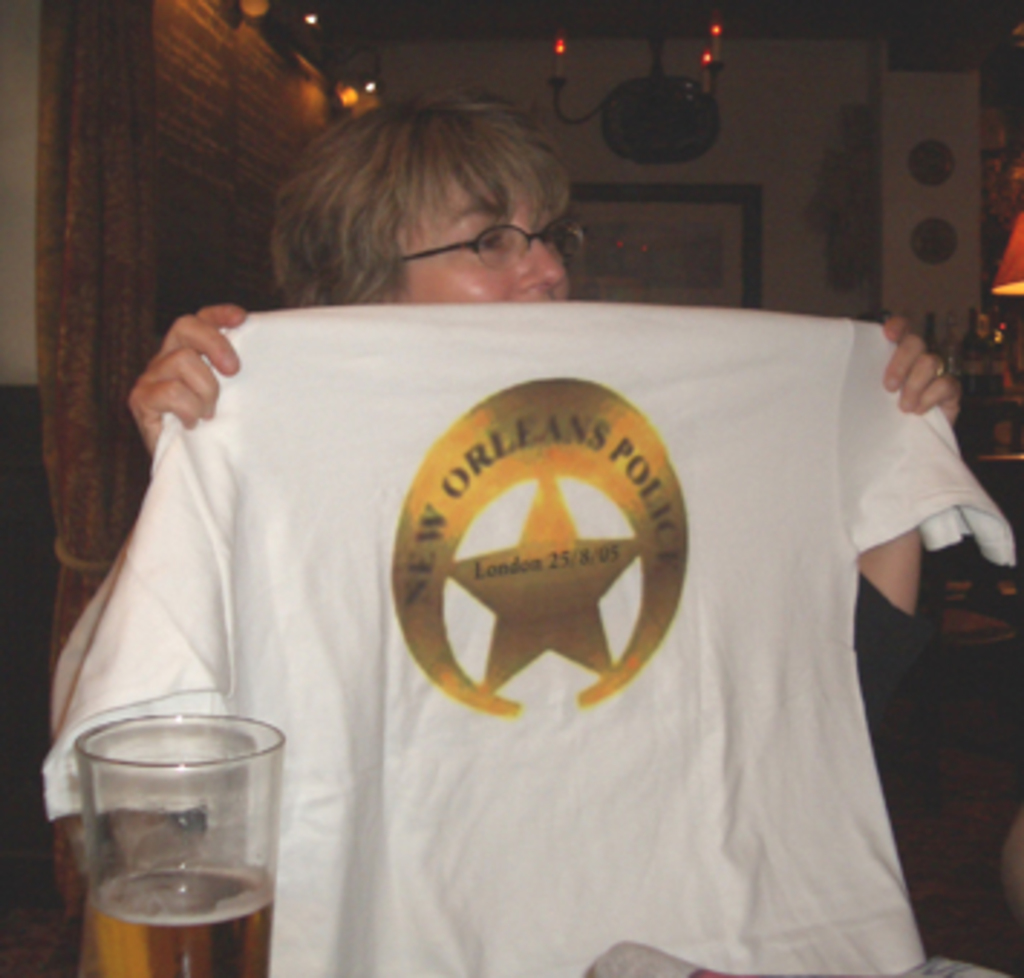Beer: (74, 862, 276, 975)
